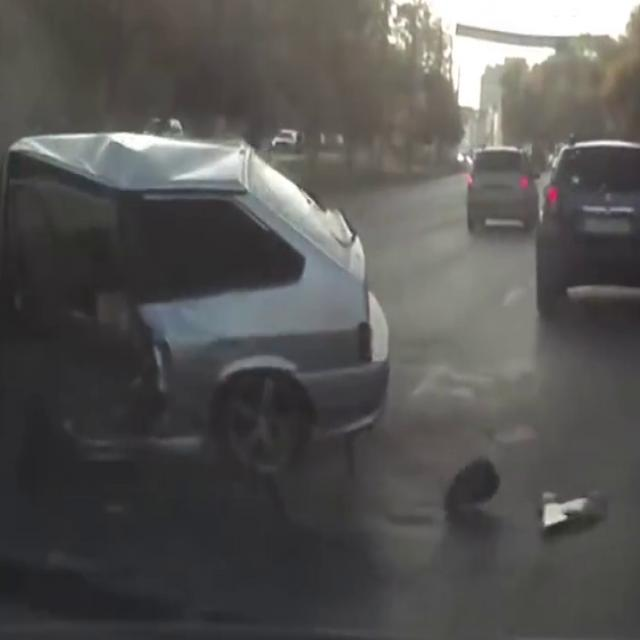accident: (7, 140, 405, 501)
